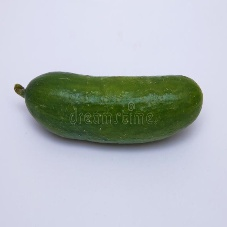cucumber: (25, 70, 201, 146)
